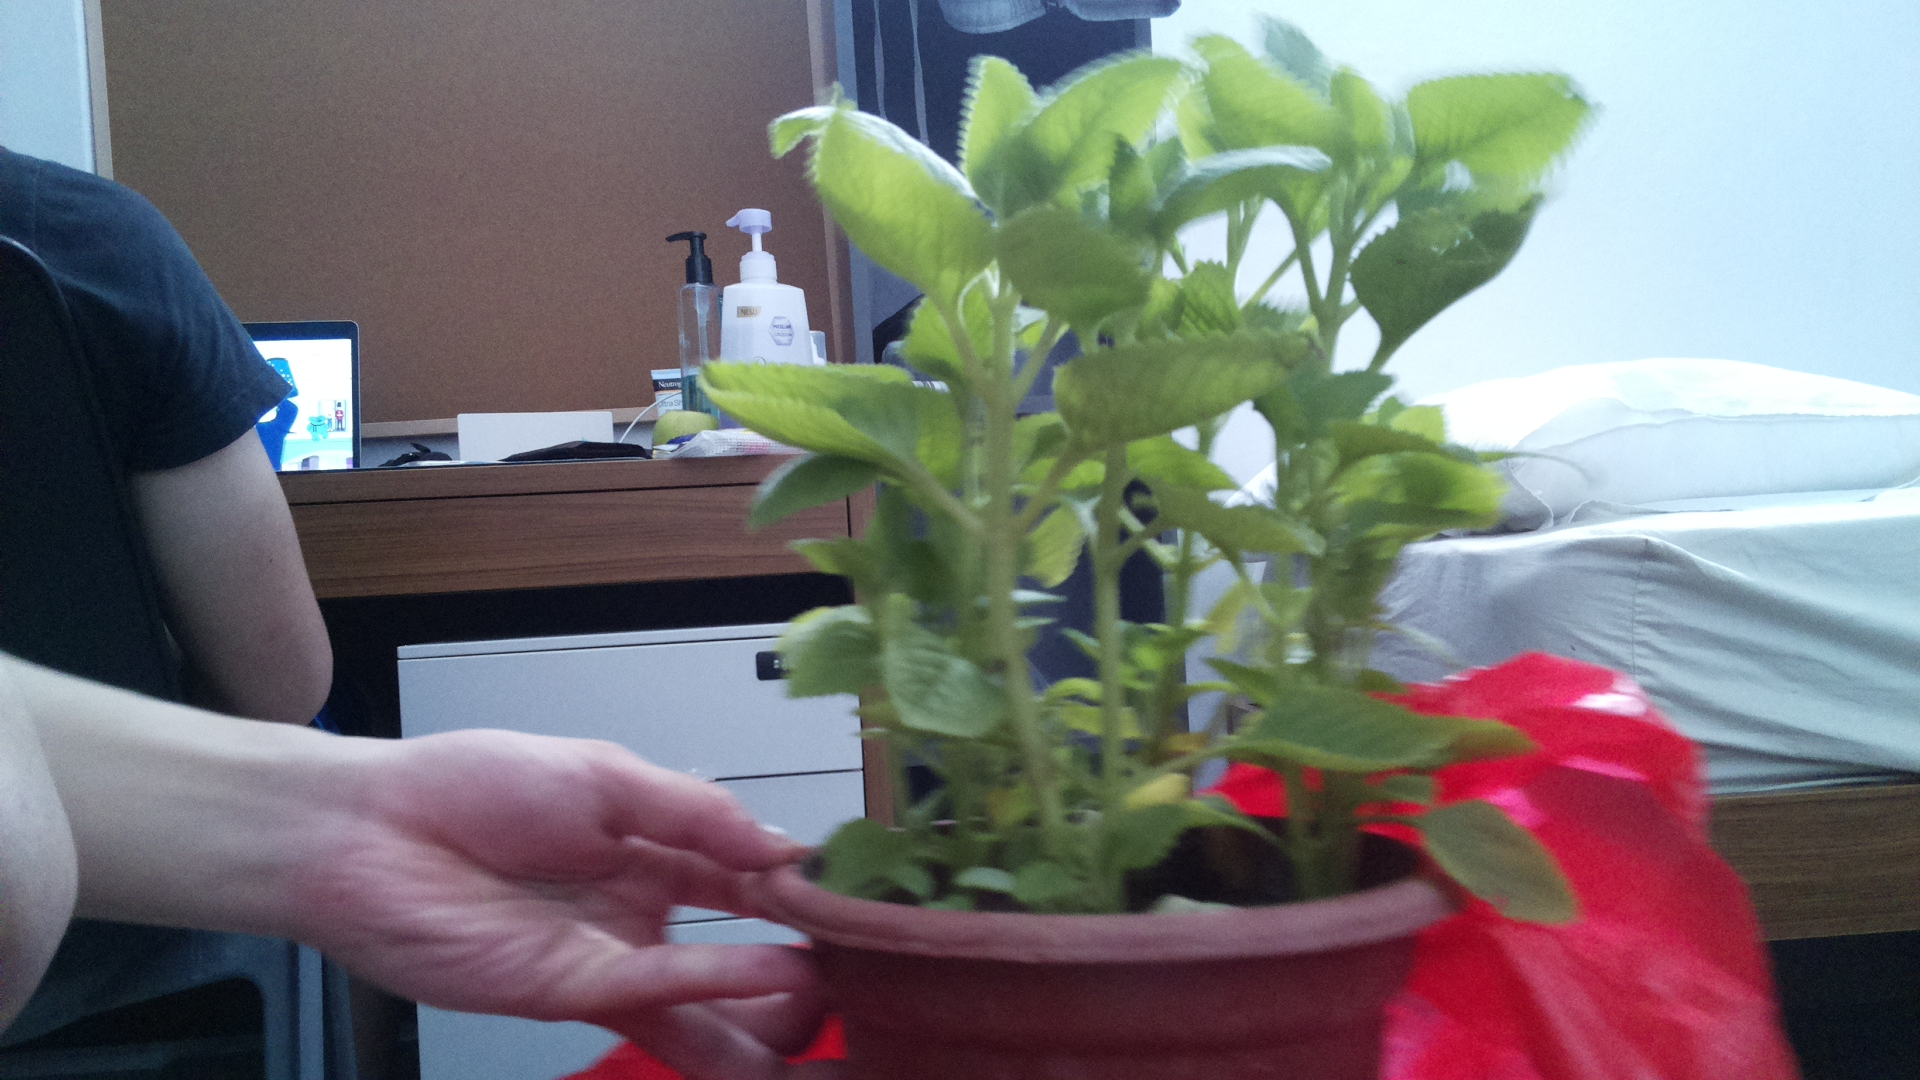leaf: (820, 84, 988, 306), (691, 342, 920, 485), (1004, 53, 1192, 222), (1404, 50, 1592, 218), (1352, 190, 1549, 347), (1040, 331, 1315, 443), (1240, 690, 1534, 782), (1407, 800, 1585, 942), (1143, 473, 1331, 571), (884, 613, 1015, 745), (1213, 38, 1346, 154), (1007, 222, 1153, 326), (1341, 447, 1516, 533), (775, 609, 884, 709), (1105, 766, 1188, 869)
